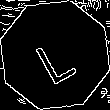L_NW: (29, 26, 81, 84)
